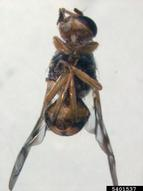Fruit fly: (14, 9, 124, 174)
